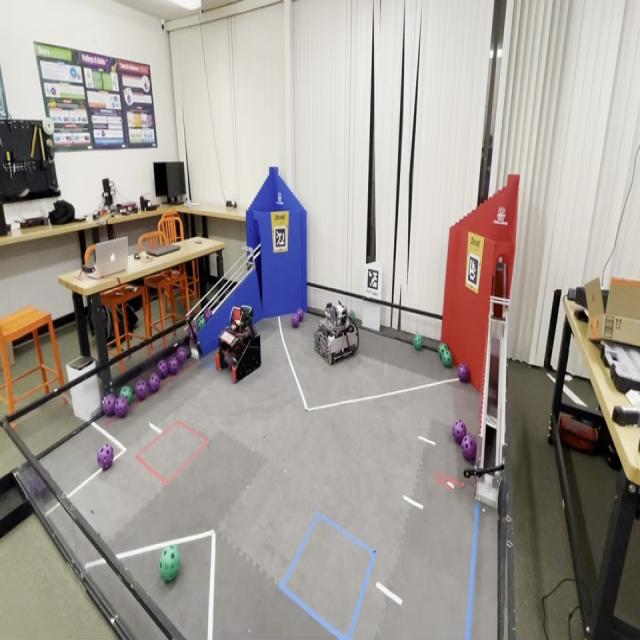artifact_green: (160, 546, 180, 583), (120, 386, 134, 404), (441, 350, 452, 367), (438, 343, 448, 359), (188, 322, 196, 341), (196, 316, 206, 330), (414, 335, 423, 350), (439, 347, 450, 359), (292, 313, 299, 328), (350, 310, 355, 322)
artifact_purple: (29, 472, 47, 498), (461, 434, 477, 462), (98, 444, 113, 470), (452, 420, 466, 444), (102, 394, 116, 417), (115, 397, 129, 418), (135, 380, 149, 401), (156, 361, 169, 379), (149, 373, 160, 393), (458, 363, 469, 382), (168, 357, 179, 375), (176, 347, 187, 365), (224, 352, 233, 369), (203, 308, 213, 321), (188, 323, 195, 340), (292, 313, 299, 328), (296, 310, 303, 323), (297, 309, 303, 322)
